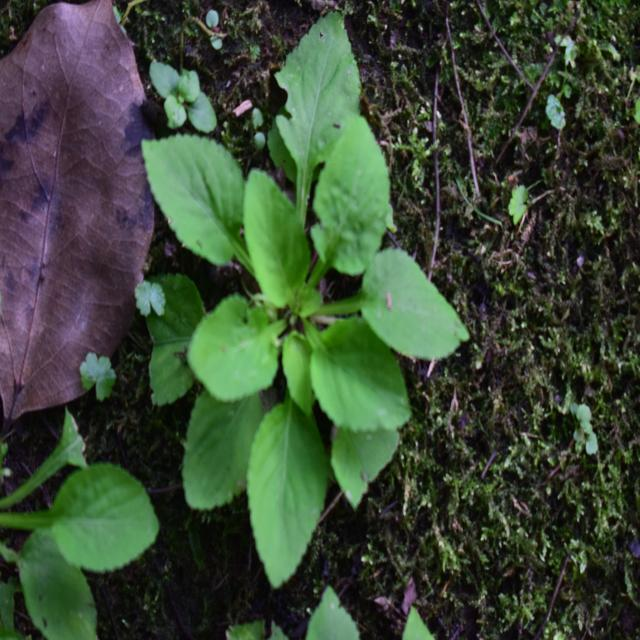Viola: (150, 68, 450, 538)
